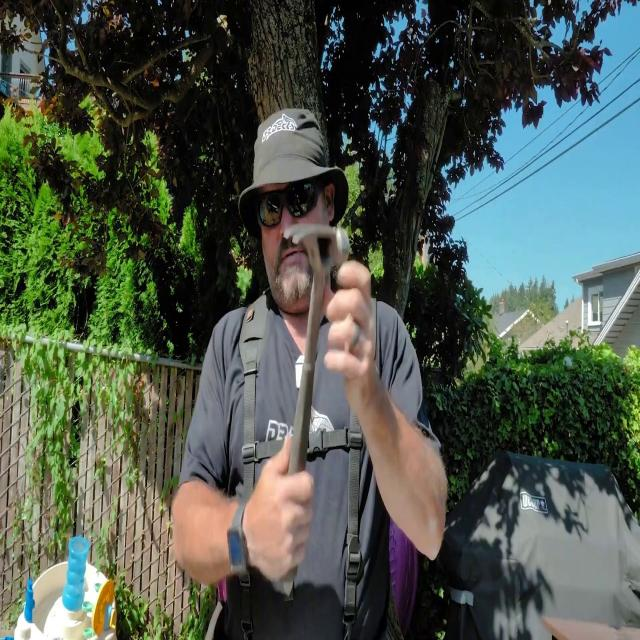hammer: (284, 225, 348, 474)
